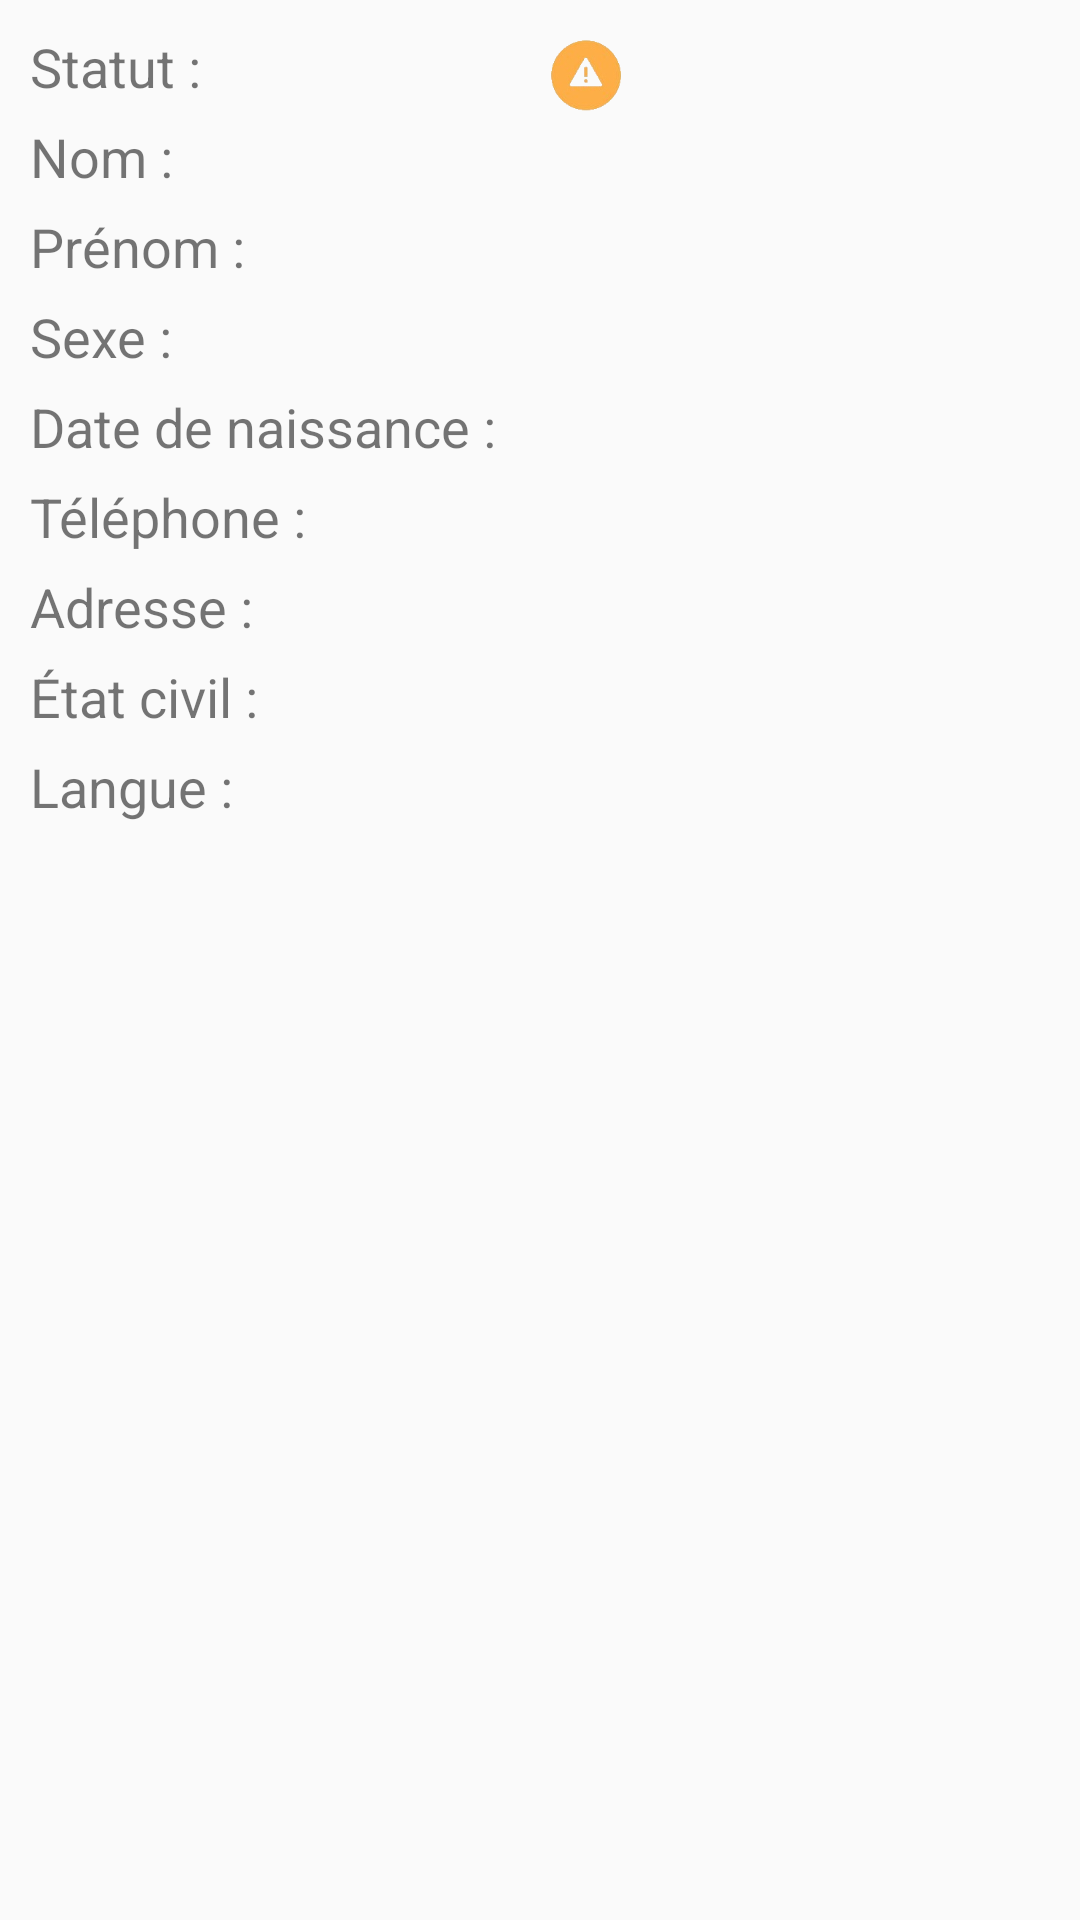

Named icons in this screenshot (1080px x 1920px) and their centers, (x=x, y=y):
status unknow: (x=586, y=75)
